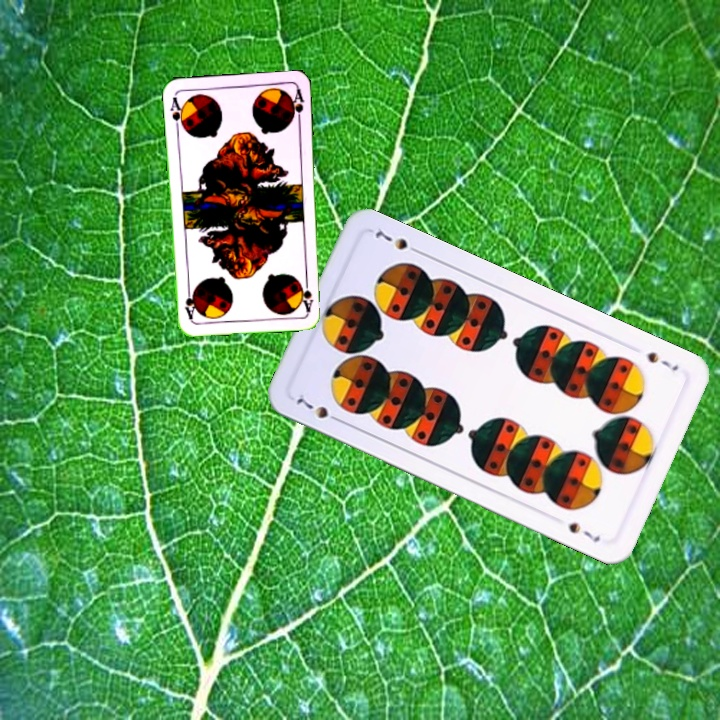S7: (292, 393, 345, 426), (643, 347, 681, 374)
SA: (166, 93, 187, 133), (297, 273, 316, 314)
